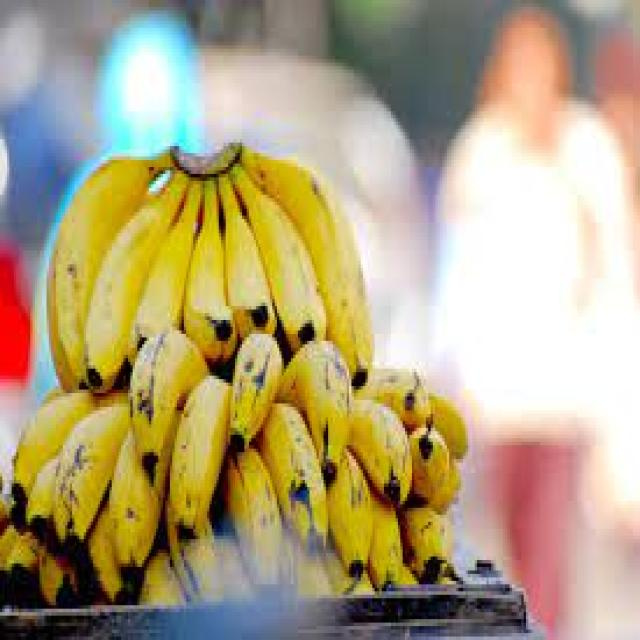banana: (21, 383, 483, 605), (46, 134, 359, 349)
